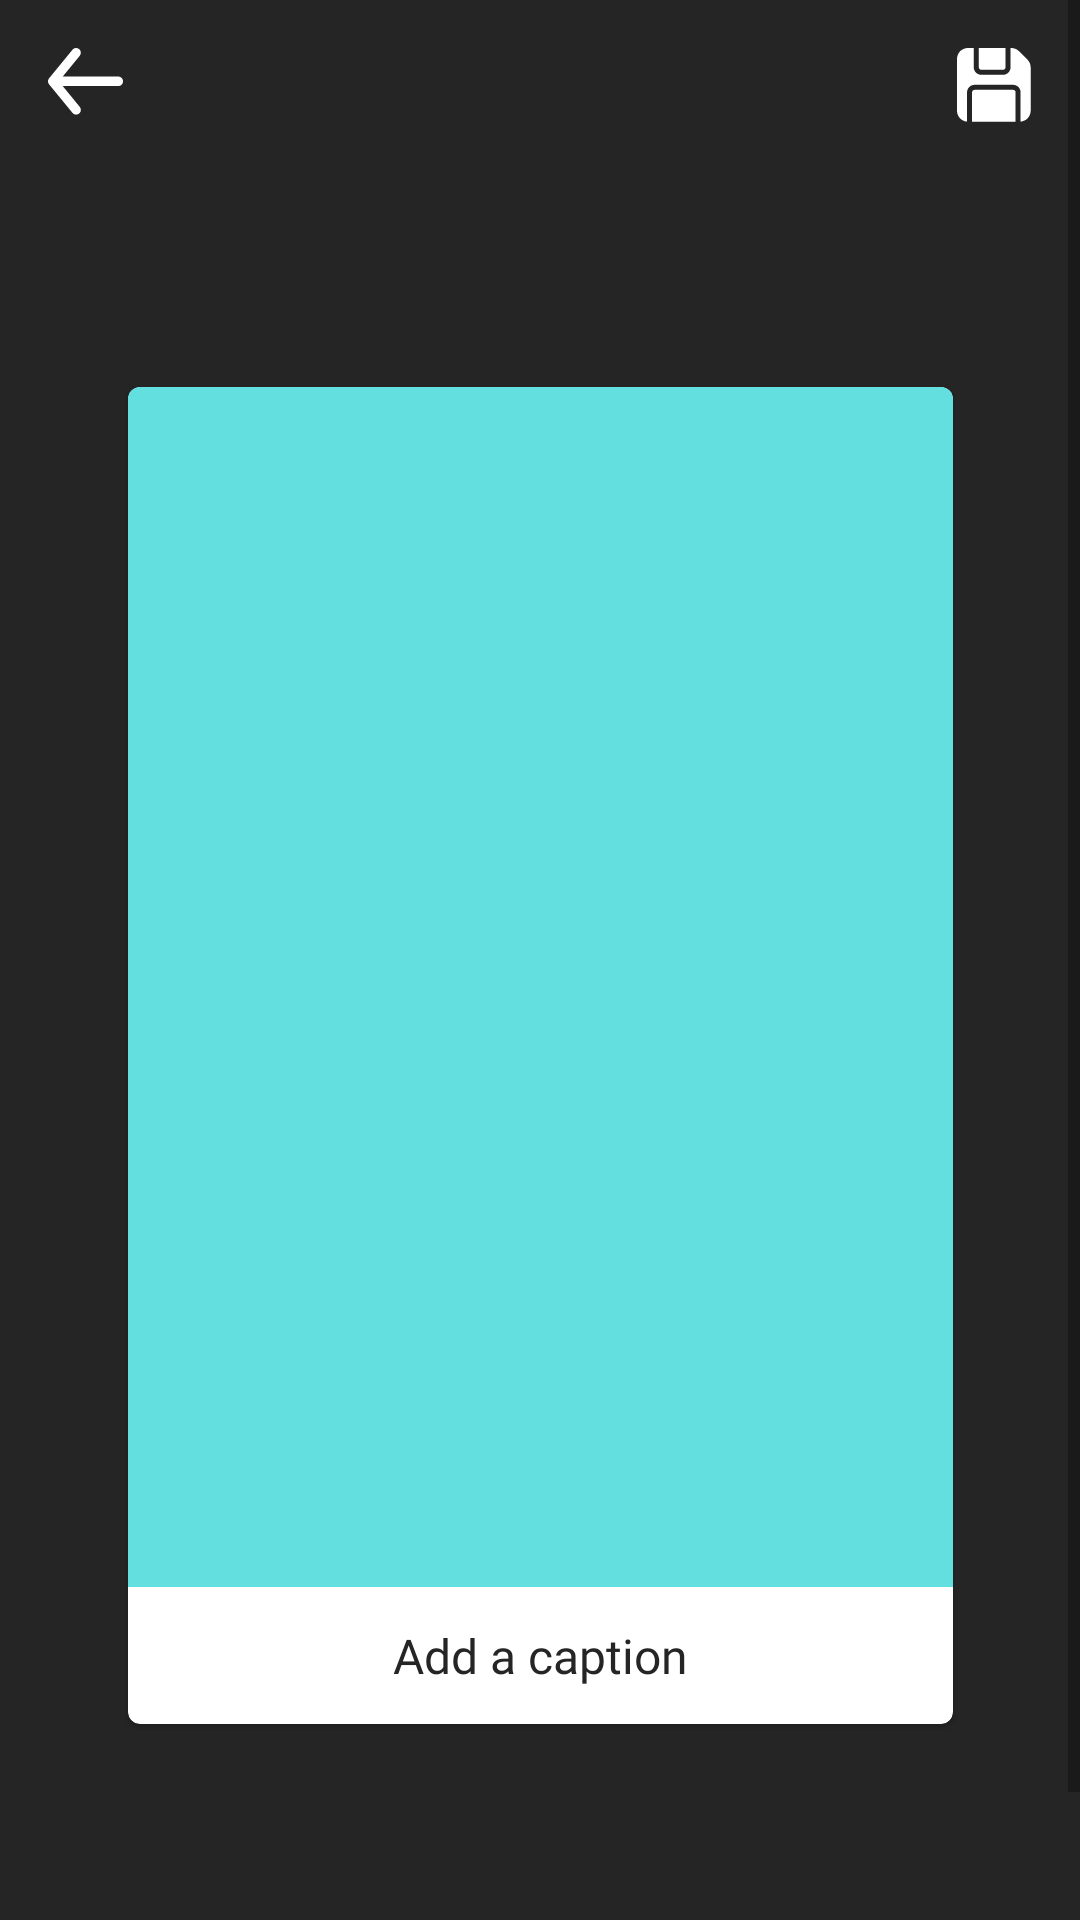

Icon bounding boxes for this 1080 x 1920 phone screenshot, format (x1, y1, x2, y2):
go back: (48, 48, 123, 115)
save image: (957, 48, 1031, 122)
